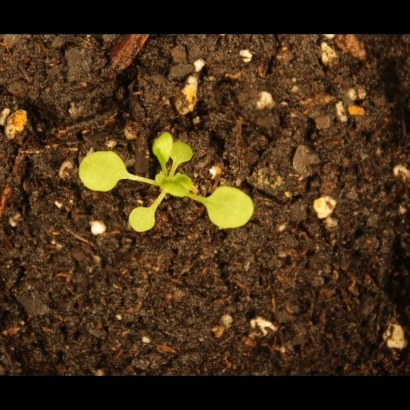leaf: (203, 185, 256, 239), (74, 150, 132, 195), (145, 127, 180, 168), (127, 204, 160, 239), (162, 172, 194, 199), (167, 140, 195, 165)
